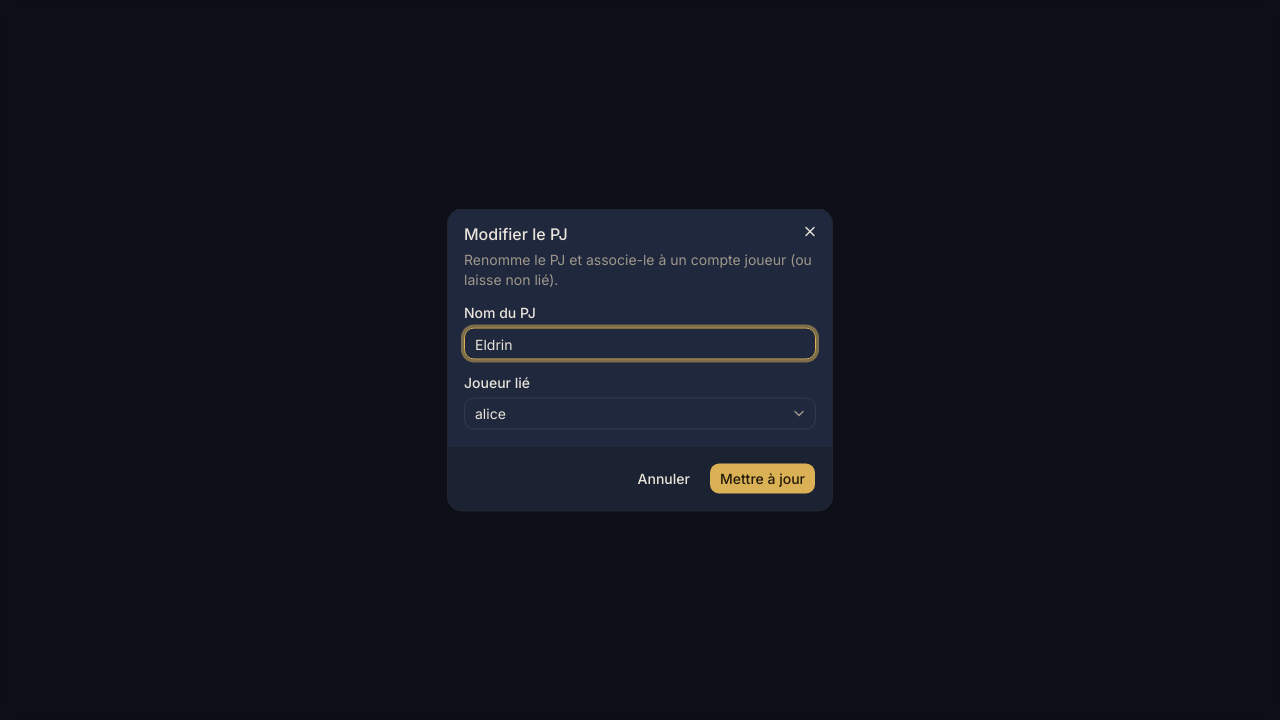
<PjForm> edit mode › renders the edit heading, prefilled name, and the user picker
Expected: the heading "Modifier le PJ" is shown, [464,224,568,244]
Expected: the field labelled "Nom du PJ" holds "Eldrin", [464,328,816,360]
// Les options ne sont montées qu'à l'ouverture du popup.
Click the dropdown named "Joueur lié".
click(490, 413)  # box [464,398,816,430]
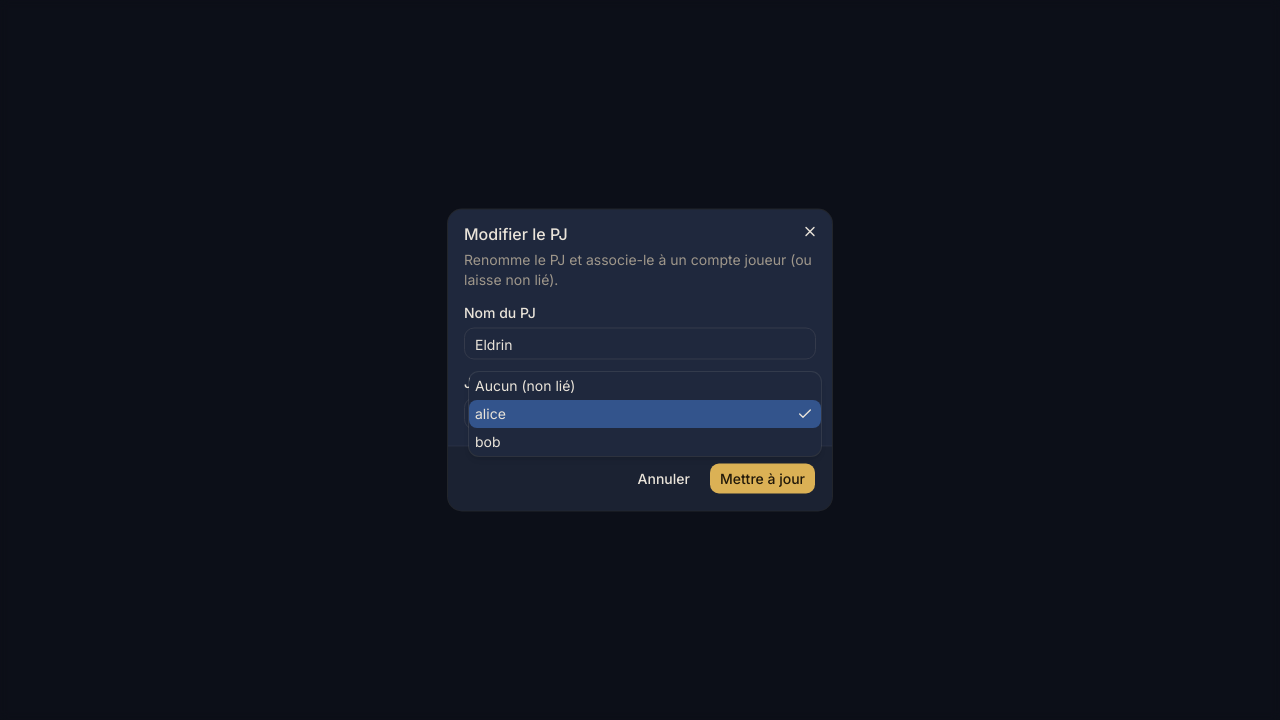
Expected: the option "Aucun (non lié)" is shown, [475,376,575,394]
Expected: the option "alice" is shown, [469,400,821,428]
Expected: the option "bob" is shown, [475,432,500,450]
